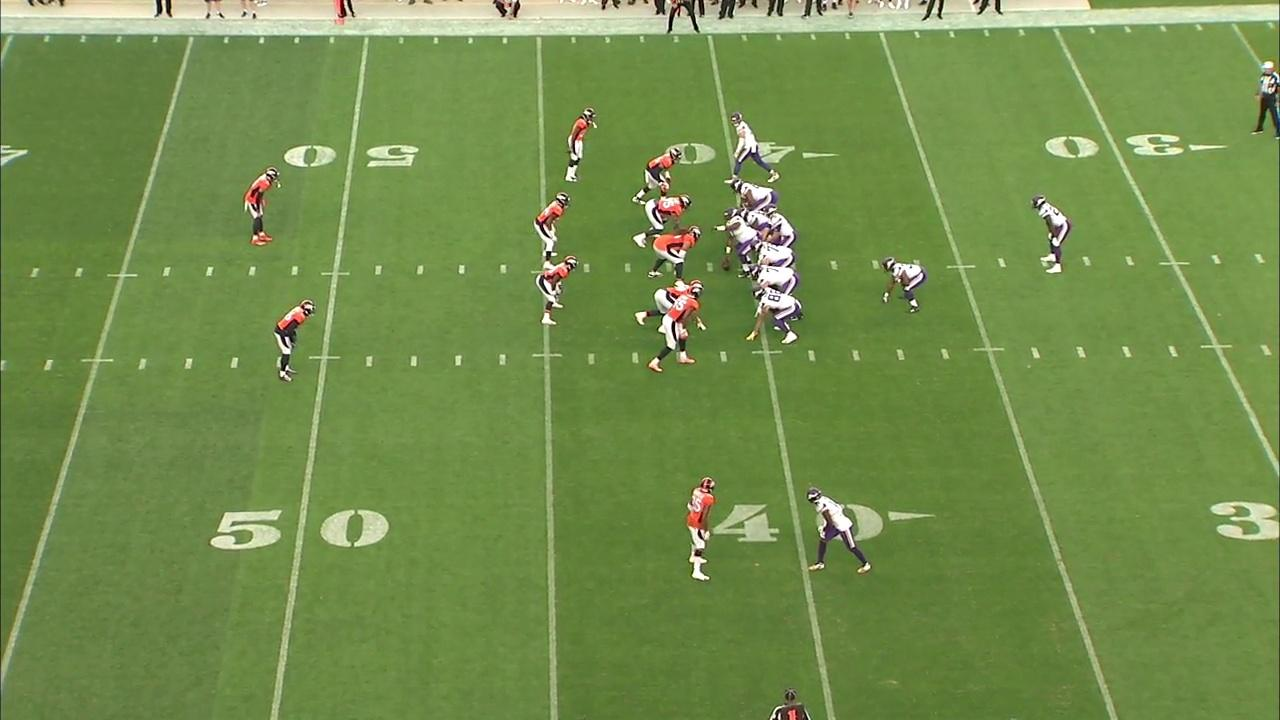five_hash: (78, 356, 116, 365), (1157, 259, 1194, 268), (306, 354, 343, 362), (973, 345, 1005, 354), (1199, 343, 1235, 351), (318, 270, 353, 278), (750, 348, 784, 356), (105, 272, 140, 279), (531, 352, 565, 359), (944, 263, 978, 270)
hash: (799, 346, 822, 365), (1024, 344, 1046, 362), (1256, 340, 1275, 360), (890, 345, 910, 364), (133, 355, 153, 374), (1073, 341, 1091, 362), (581, 350, 600, 368), (1117, 343, 1135, 361), (359, 353, 378, 370), (1165, 344, 1183, 361), (26, 264, 43, 282), (71, 264, 88, 282), (849, 346, 865, 365), (1121, 255, 1141, 270), (716, 347, 731, 367), (937, 345, 953, 363), (619, 259, 635, 277), (626, 348, 642, 366), (201, 263, 217, 281), (866, 258, 883, 274), (1079, 252, 1094, 270), (451, 352, 466, 370), (227, 354, 241, 373), (412, 261, 428, 277), (41, 357, 57, 373), (1209, 252, 1224, 269), (496, 351, 511, 368), (1252, 251, 1268, 266), (995, 256, 1011, 271), (288, 263, 303, 279), (182, 357, 198, 372), (827, 256, 841, 273), (158, 263, 173, 278), (407, 353, 420, 370), (372, 262, 385, 279), (579, 260, 593, 275), (245, 263, 259, 278), (496, 262, 510, 275), (457, 263, 468, 278)
number: (283, 139, 424, 174), (208, 501, 293, 533)
